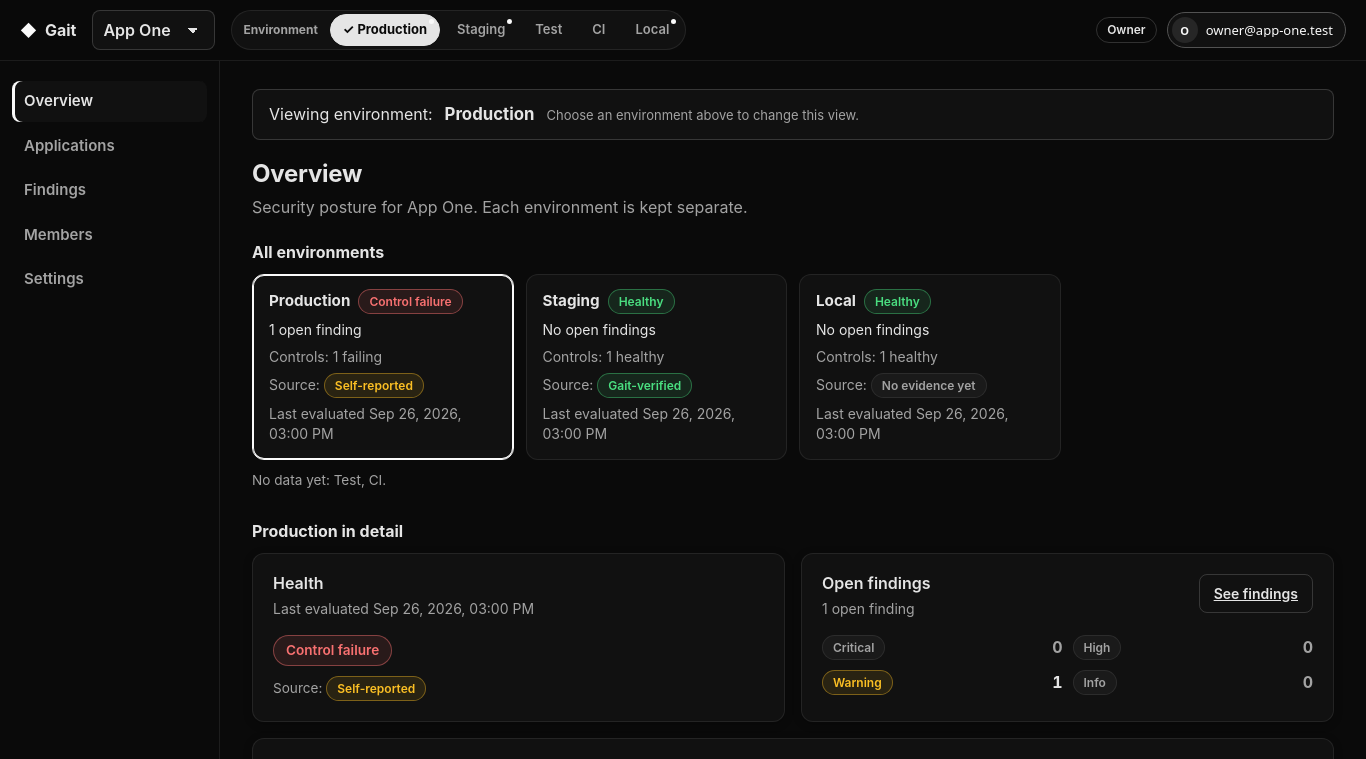
Test: F1 Overview › choosing an environment card switches the console's environment
The width and height of the screenshot is (1366, 759).
Click the 8th button: [656, 367] box [526,274,787,460]
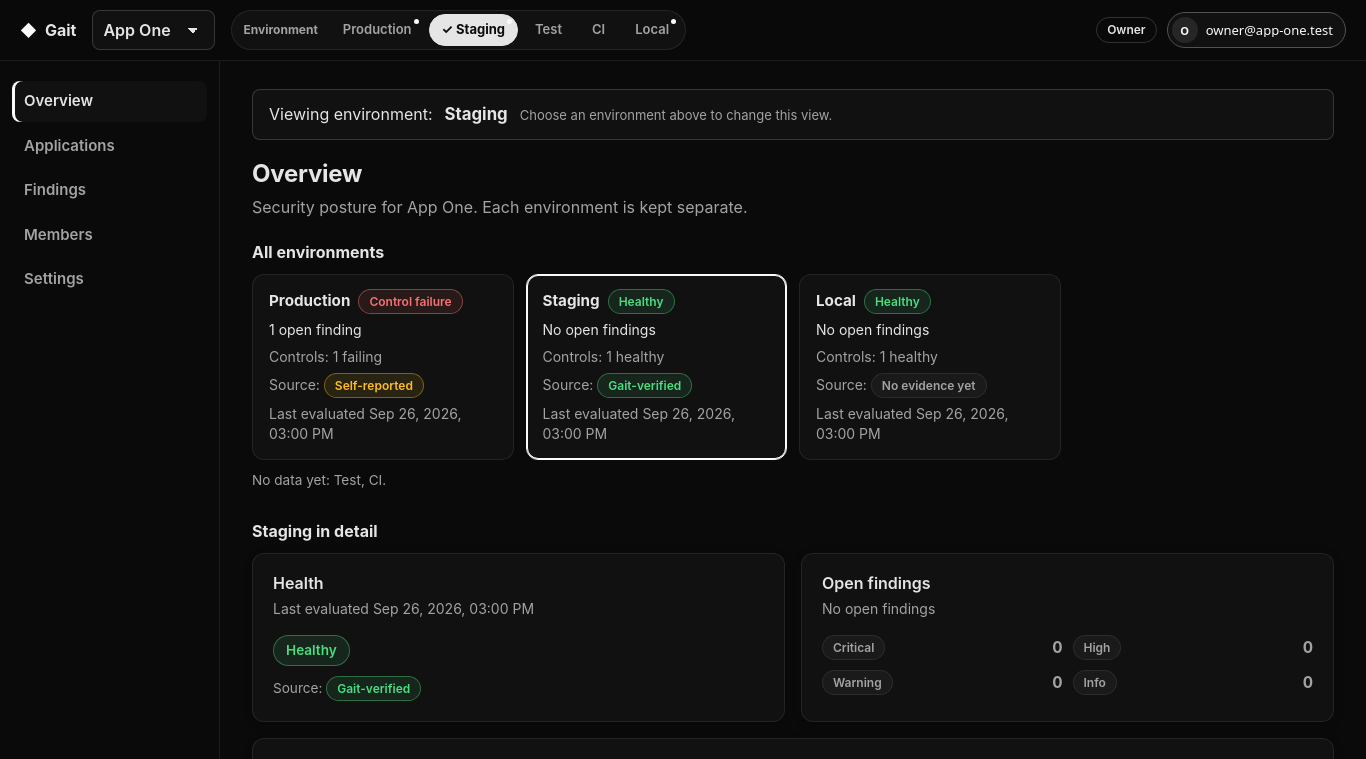
Expected: the heading "Staging in detail" is shown, [252,521,378,541]
Expected: the link "See findings" is gone
